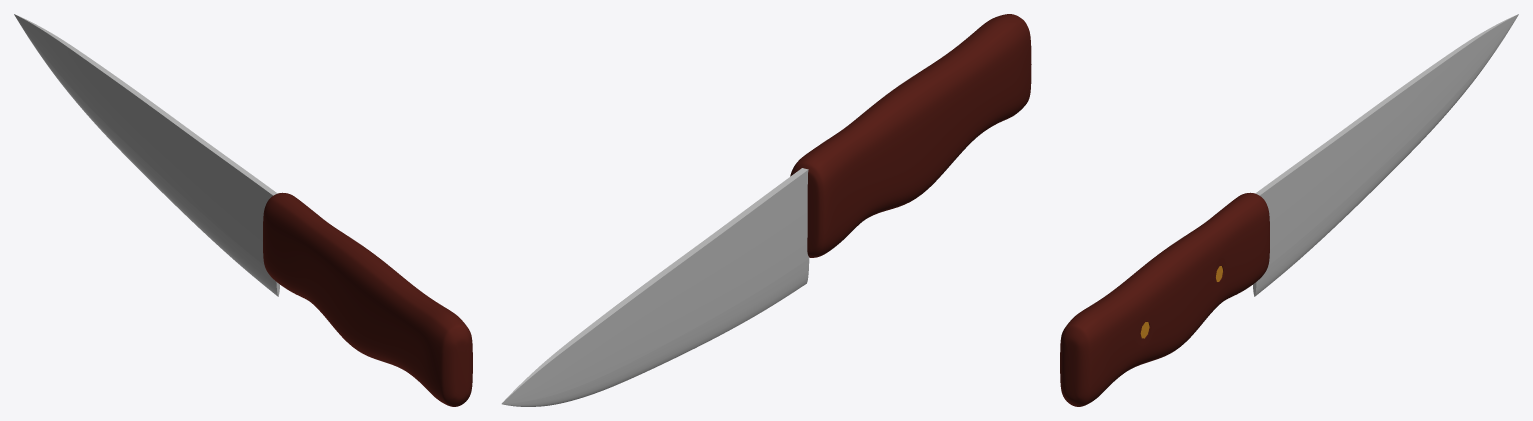
File: Faca.fbx
3 renders of one model, left to right at view 1: azimuth 30°, elevation 25°; view 2: azimuth 150°, elevation 25°; view 3: azimuth 330°, elevation 25°, orthographic. The views are drawn at different scales.
Parts seen in each view (by area): view 1: Faca; view 2: Faca; view 3: Faca.
Boxes of the visible parts, box(x1,y1,x2,y2) form: Faca: box(14, 14, 472, 406); Faca: box(501, 14, 1031, 406); Faca: box(1060, 14, 1518, 406).
Bounding box in the file's own units: 21.73 × 60.73 × 462.
